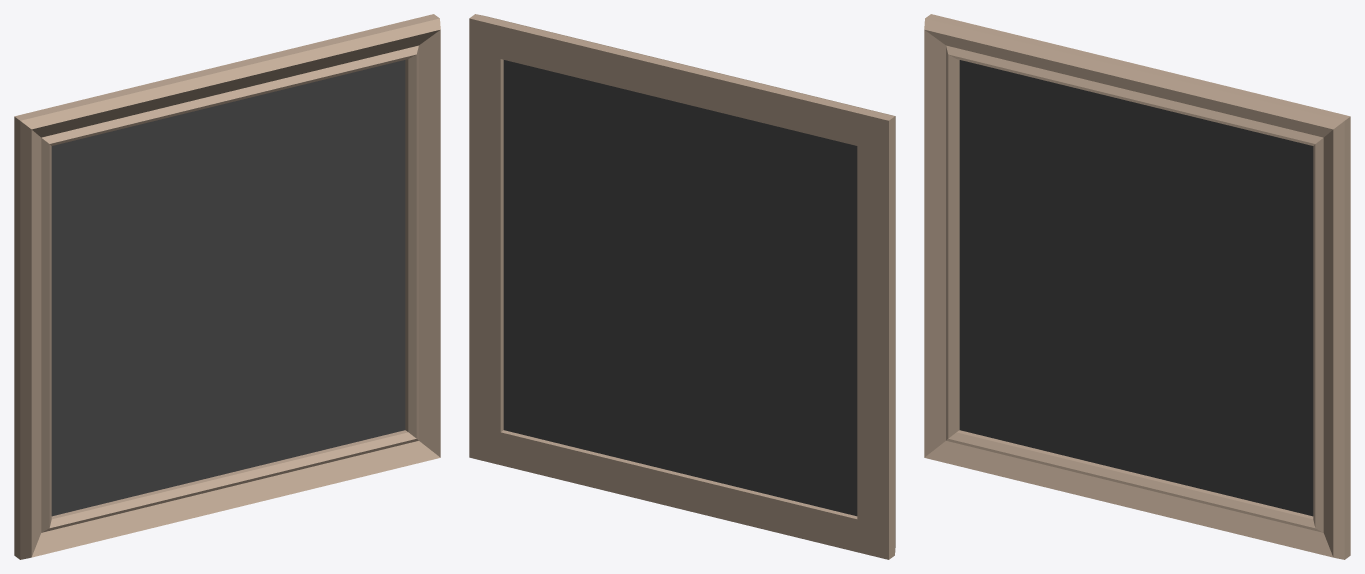
Rendered from Prop_Misc_Picture_Square_Large.glb.
The picture shows the model from 3 angles, left to right: view 1: azimuth 30°, elevation 25°; view 2: azimuth 150°, elevation 25°; view 3: azimuth 330°, elevation 25°; orthographic projection.
Visible parts, largest first — view 1: Prop_Misc_Picture_Square_Large; view 2: Prop_Misc_Picture_Square_Large; view 3: Prop_Misc_Picture_Square_Large.
Part boxes in pixels (<box>): Prop_Misc_Picture_Square_Large: <box>14,14,440,559</box>; Prop_Misc_Picture_Square_Large: <box>469,14,895,559</box>; Prop_Misc_Picture_Square_Large: <box>924,14,1350,559</box>.
Bounding box in the file's own units: 1 × 1 × 0.05.
